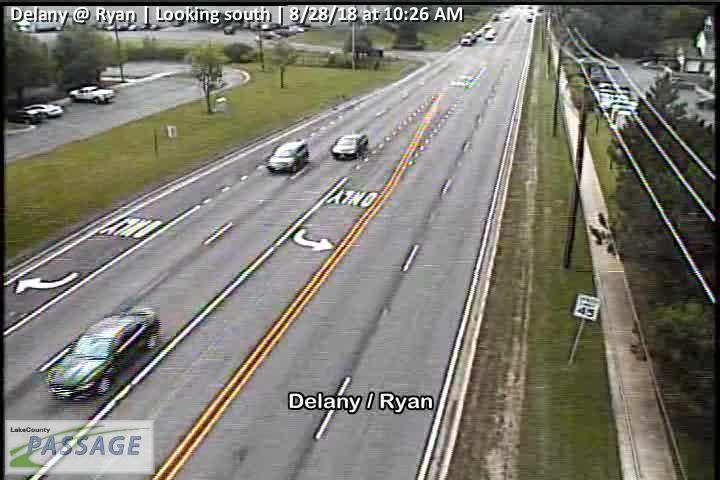SUV: (267, 140, 310, 173)
Sedan: (46, 309, 160, 400), (332, 133, 368, 159), (68, 86, 114, 104), (24, 104, 64, 116), (9, 109, 41, 124)
